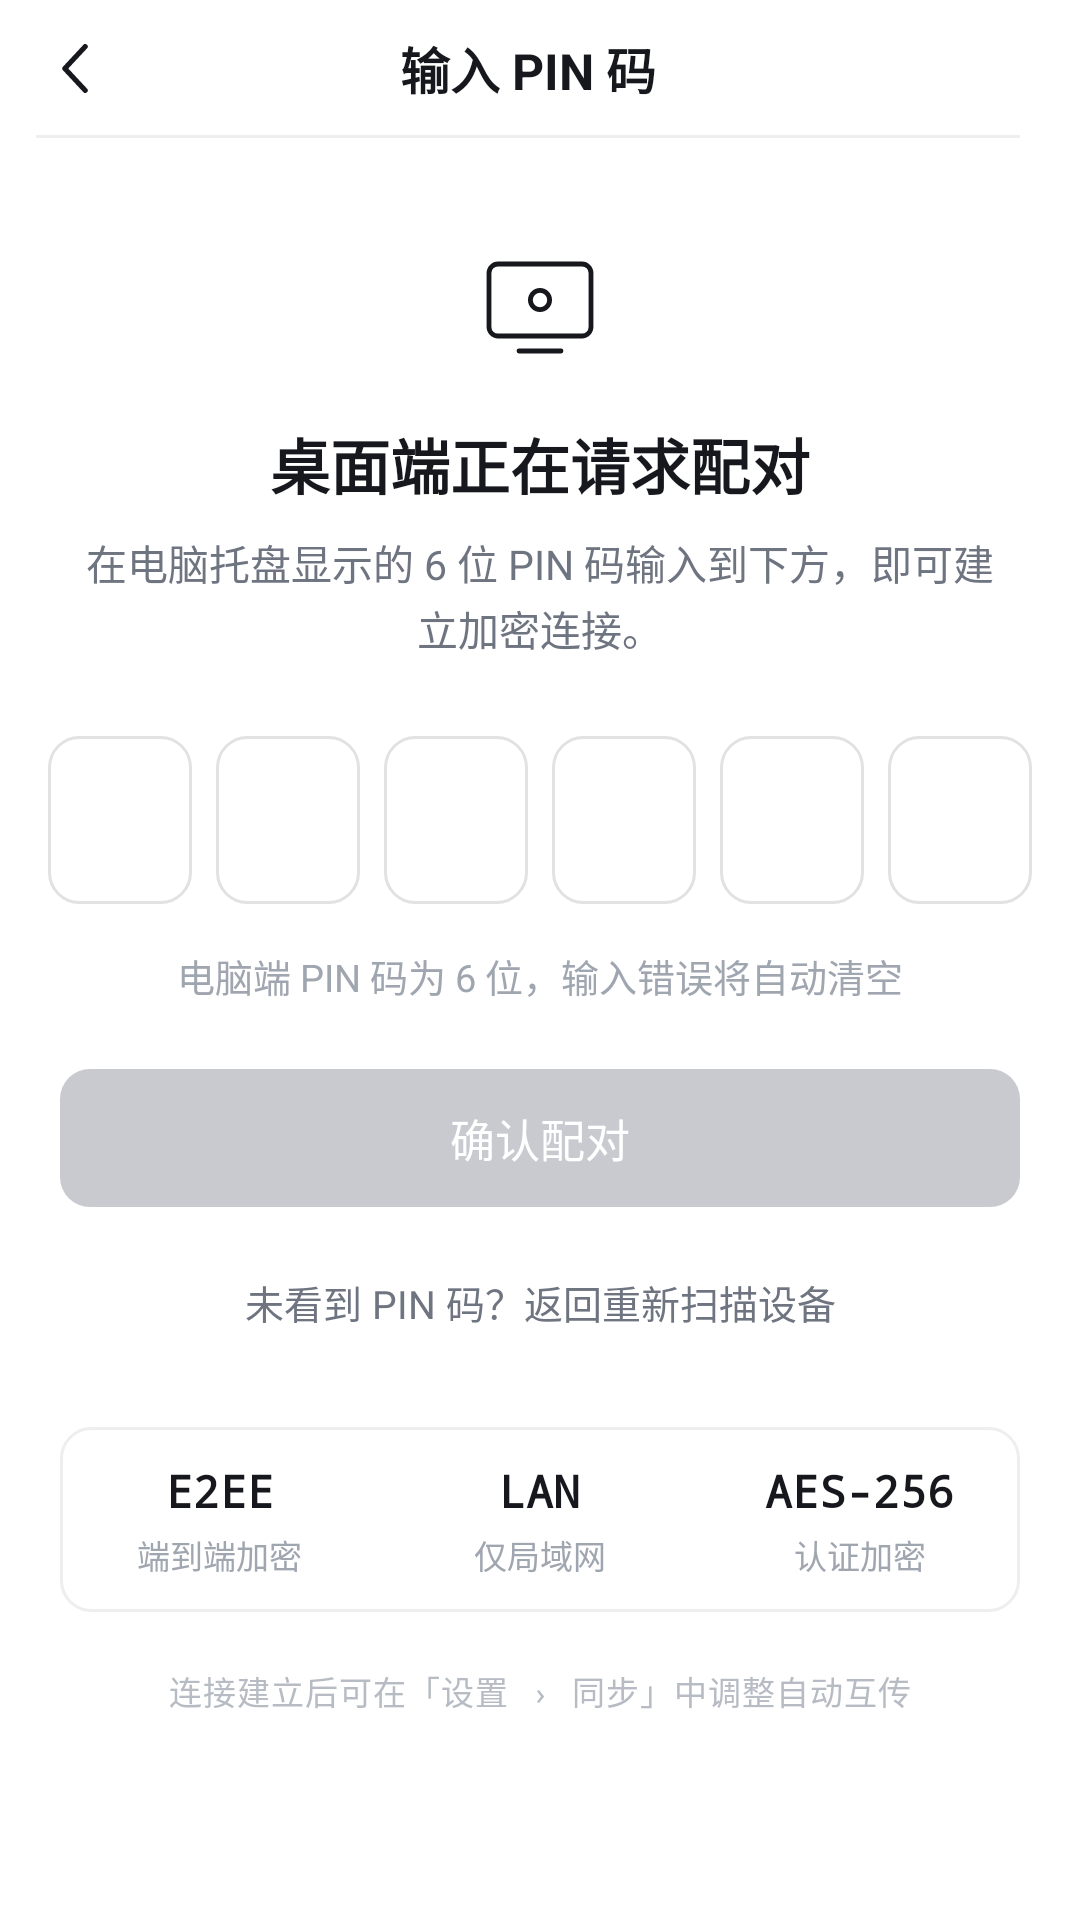

Where icons sit on this 1080x1920 app screen, as (x1, y1, x2, y2):
电脑: (486, 261, 594, 354)
返回: (62, 44, 88, 93)
